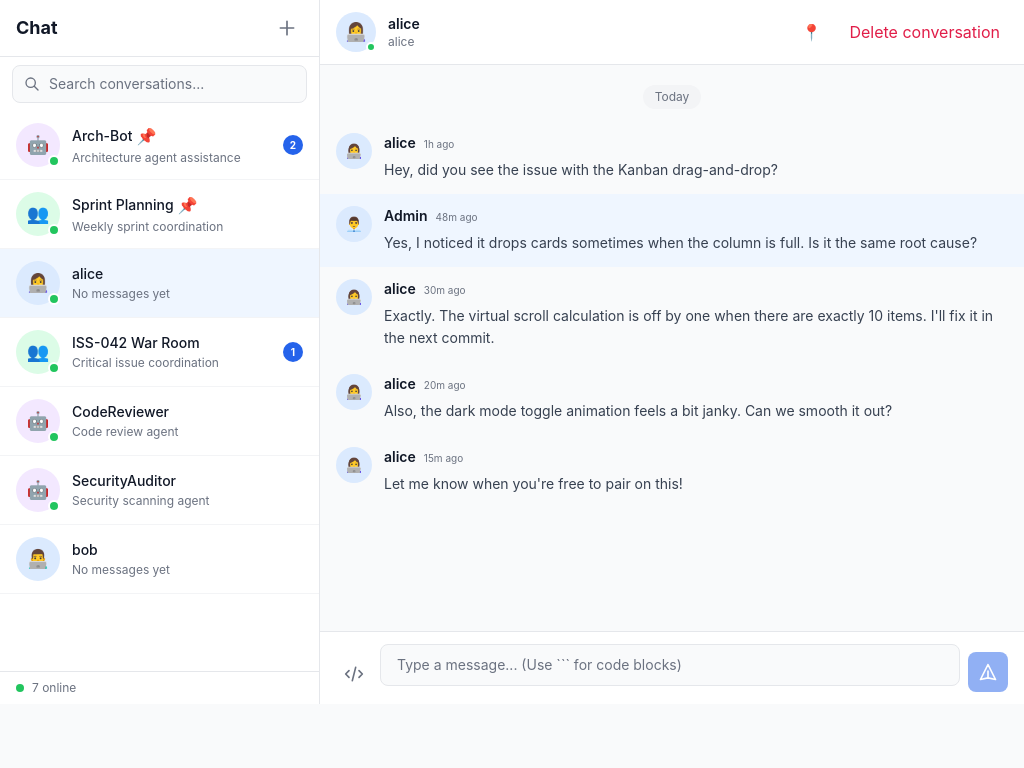
Test case: ChatView › deletes the active conversation only after confirmation
Click the button with aria-label "Delete conversation": click(925, 32) x1=841 y1=12 x2=1008 y2=52
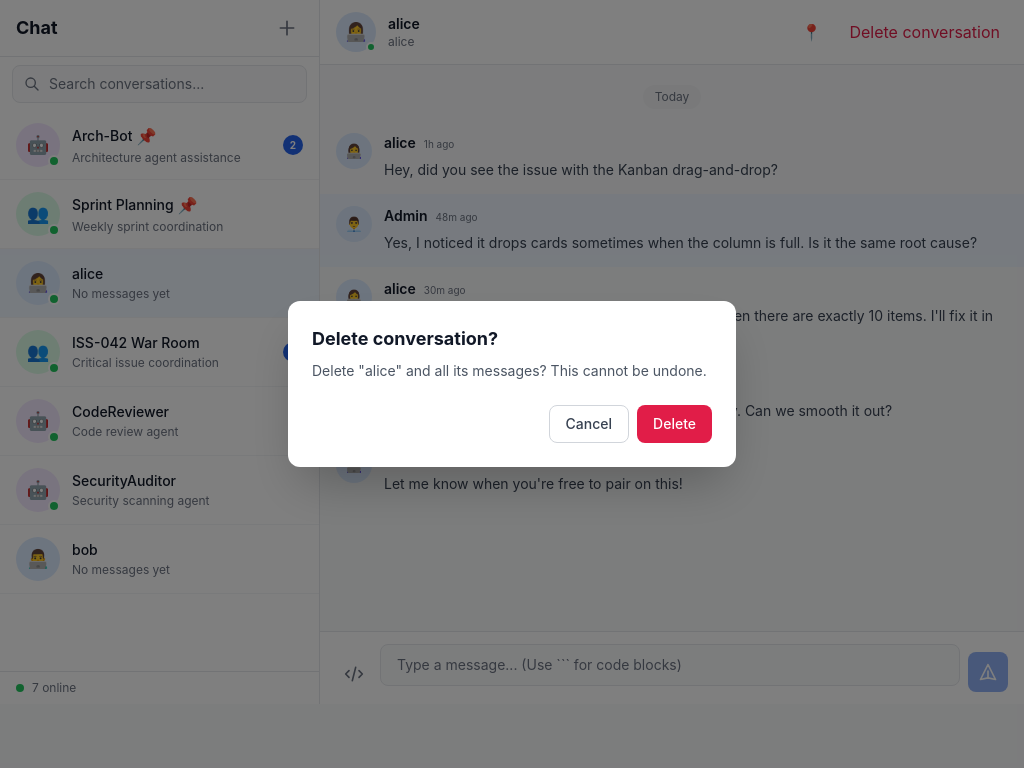
Click the button "Delete": click(675, 424) x1=637 y1=405 x2=712 y2=443
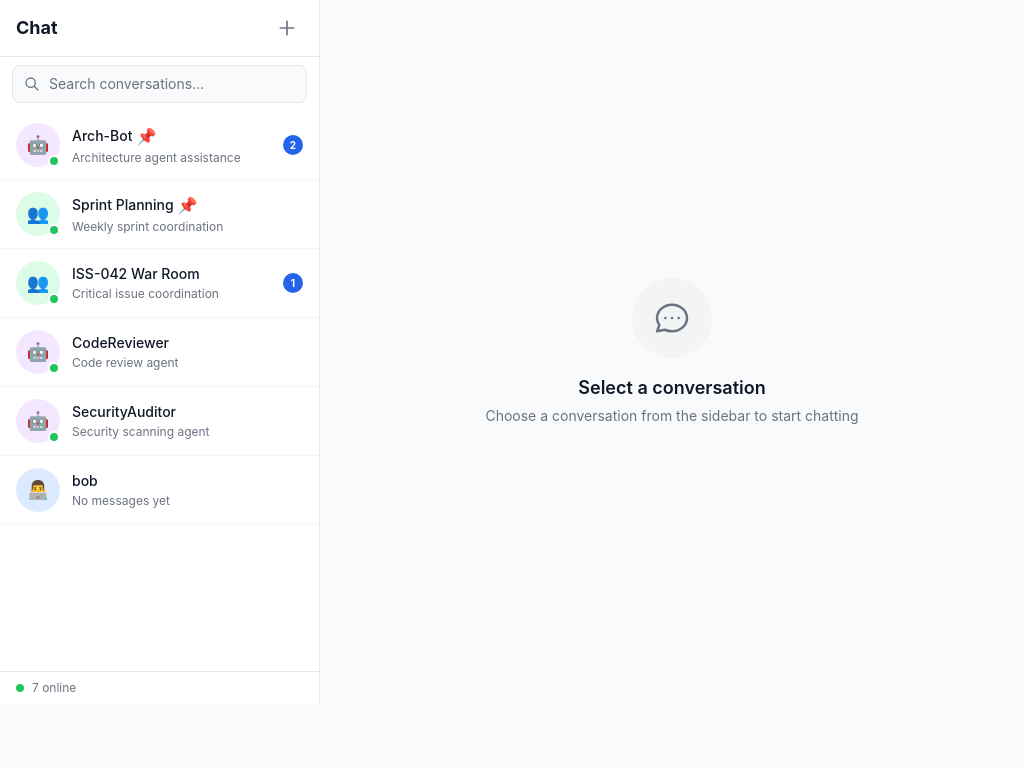
expect the text "Select a conversation" is shown: met, box x1=578 y1=377 x2=766 y2=398
